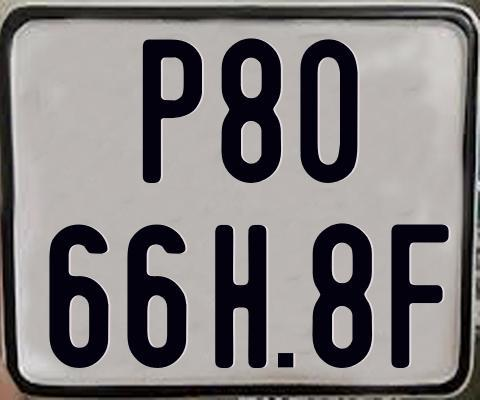0: (298, 37, 357, 187)
6: (125, 221, 190, 370), (49, 222, 109, 367)
8: (219, 38, 280, 188), (310, 222, 371, 367)
F: (391, 221, 452, 365)
H: (212, 224, 265, 367)
P: (141, 36, 200, 185)
